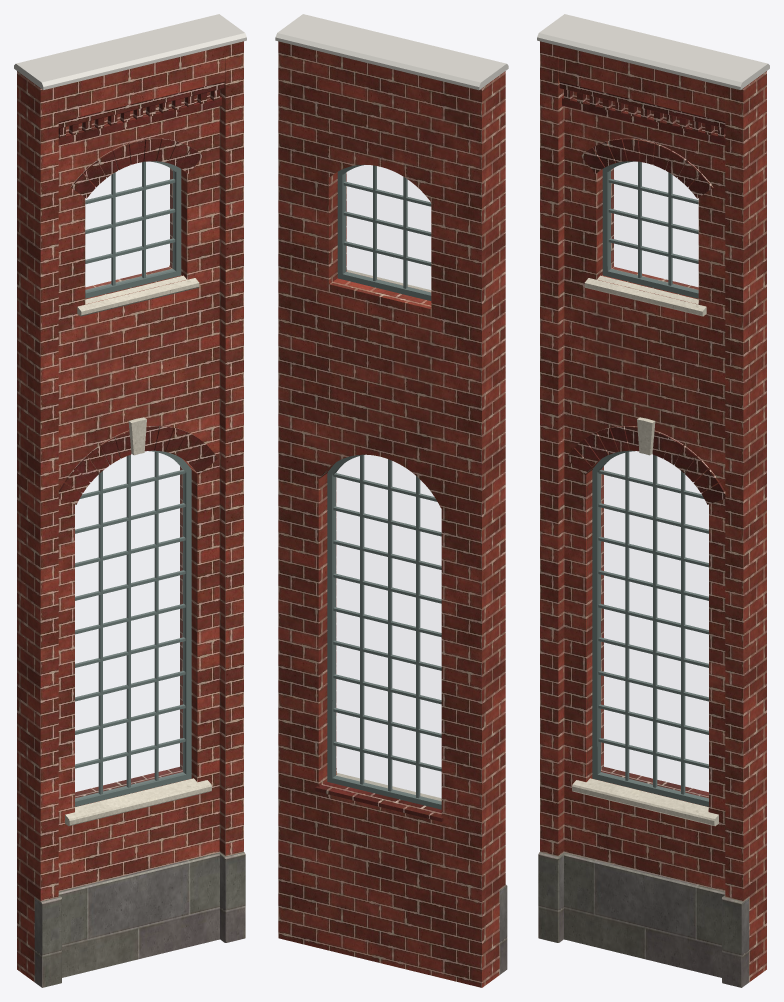
File: h_front_window.glb
3 views of the same model, side by side, from view 1: azimuth 30°, elevation 25°; view 2: azimuth 150°, elevation 25°; view 3: azimuth 330°, elevation 25° (orthographic).
Parts seen in each view (by area): view 1: h_front_window_brick, folha_glass, h_front_window_plinth, folha_wframe, h_front_window_brick2, h_front_window_glass, h_front_window_coping, h_front_window_trim, h_front_window_wframe; view 2: h_front_window_brick, folha_glass, folha_wframe, h_front_window_glass, h_front_window_coping, h_front_window_wframe, h_front_window_brick2, h_front_window_plinth, h_front_window_trim; view 3: h_front_window_brick, folha_glass, h_front_window_plinth, folha_wframe, h_front_window_brick2, h_front_window_glass, h_front_window_coping, h_front_window_trim, h_front_window_wframe.
Part boxes in pixels (<box>): h_front_window_brick: <box>17,41,243,981</box>; folha_glass: <box>75,451,183,799</box>; h_front_window_plinth: <box>34,852,245,987</box>; folha_wframe: <box>75,450,191,806</box>; h_front_window_brick2: <box>58,81,224,798</box>; h_front_window_glass: <box>86,162,173,290</box>; h_front_window_coping: <box>14,14,246,89</box>; h_front_window_trim: <box>65,275,211,826</box>; h_front_window_wframe: <box>85,161,181,298</box>; h_front_window_brick: <box>278,41,505,987</box>; folha_glass: <box>334,455,440,802</box>; folha_wframe: <box>327,454,441,809</box>; h_front_window_glass: <box>345,165,430,293</box>; h_front_window_coping: <box>275,14,508,90</box>; h_front_window_wframe: <box>337,164,431,300</box>; h_front_window_brick2: <box>315,781,443,821</box>; h_front_window_plinth: <box>499,885,507,974</box>; h_front_window_trim: <box>336,269,441,801</box>; h_front_window_brick: <box>540,41,766,981</box>; folha_glass: <box>600,451,708,799</box>; h_front_window_plinth: <box>538,852,749,987</box>; folha_wframe: <box>592,450,708,806</box>; h_front_window_brick2: <box>559,81,725,798</box>; h_front_window_glass: <box>610,162,697,290</box>; h_front_window_coping: <box>537,14,769,89</box>; h_front_window_trim: <box>572,275,718,826</box>; h_front_window_wframe: <box>602,161,698,298</box>.
Bounding box in the file's own units: 2 × 8.5 × 0.5.
7 materials, 4 textured.
